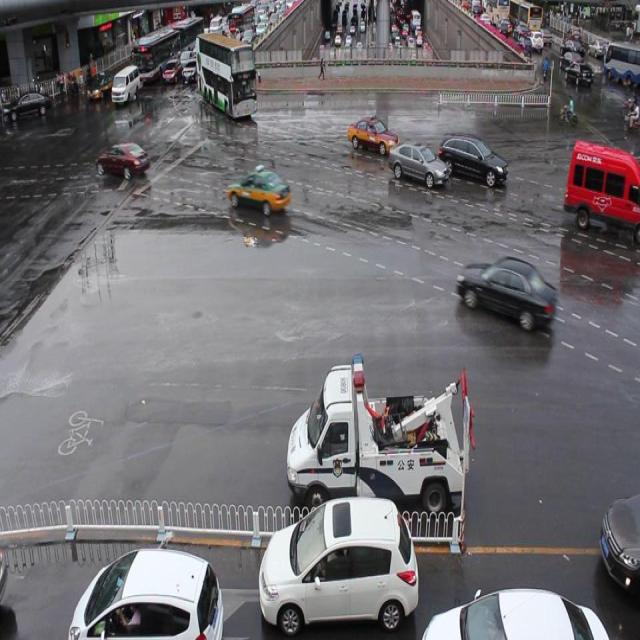bus: (286, 354, 472, 522)
car: (258, 493, 419, 632), (70, 545, 223, 640), (420, 583, 606, 640), (455, 254, 555, 330), (599, 491, 640, 590), (437, 133, 506, 188), (225, 166, 291, 217), (388, 141, 448, 188), (347, 115, 398, 159), (596, 170, 640, 215)
truck: (564, 138, 640, 241)
van: (194, 31, 257, 120)
